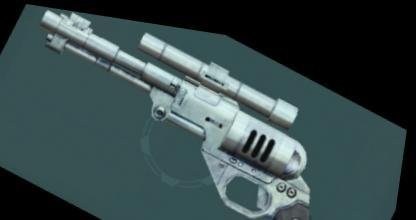pistol: (0, 0, 405, 217)
